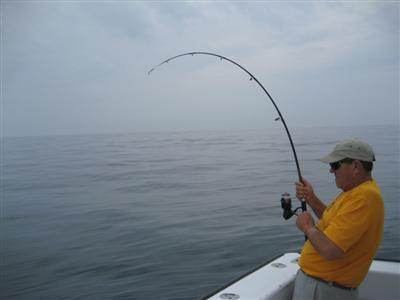person: (294, 140, 386, 300)
